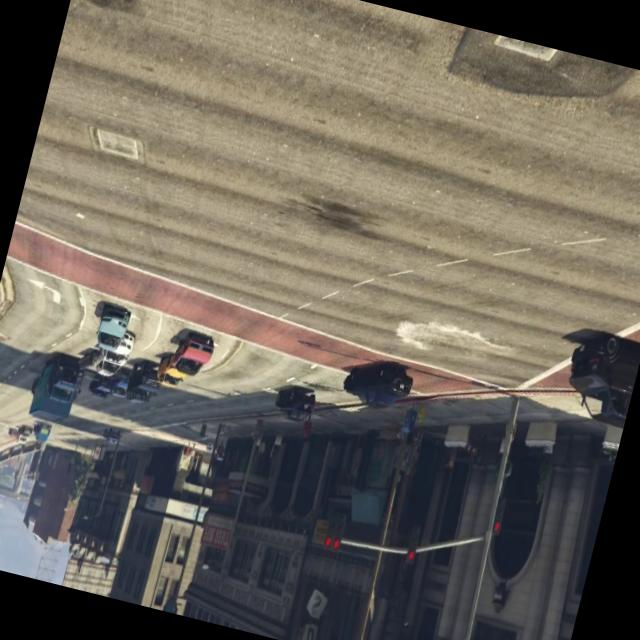Red-Signal: (314, 502, 354, 566), (399, 510, 429, 573), (485, 488, 513, 548)
